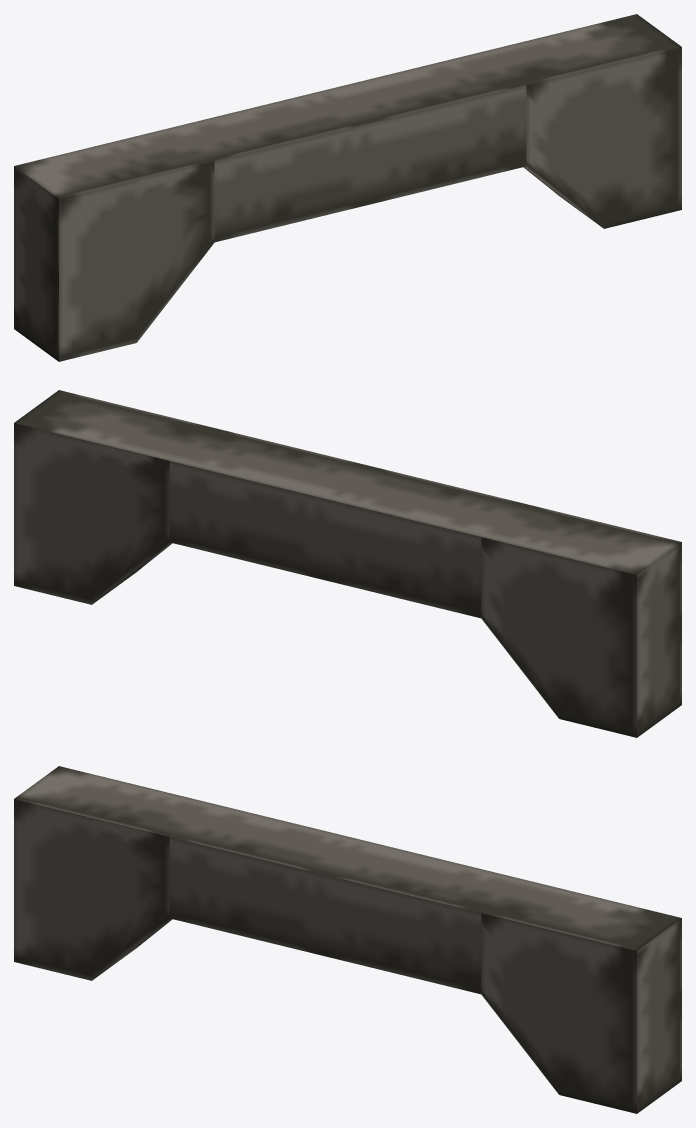
File: Ceiling_Decoration_Skinny.fbx
3 views of the same model, one above another, from view 1: azimuth 30°, elevation 25°; view 2: azimuth 150°, elevation 25°; view 3: azimuth 330°, elevation 25° (orthographic).
Parts seen in each view (by area): view 1: Ceiling_Decoration_Skinny; view 2: Ceiling_Decoration_Skinny; view 3: Ceiling_Decoration_Skinny.
Part boxes in pixels (box(x1,y1,x2,y2)): Ceiling_Decoration_Skinny: box(14, 14, 681, 361); Ceiling_Decoration_Skinny: box(14, 390, 681, 737); Ceiling_Decoration_Skinny: box(14, 766, 681, 1113).
Bounding box in the file's own units: 400 × 100 × 50.
Materials: 1 (1 with a texture image).
